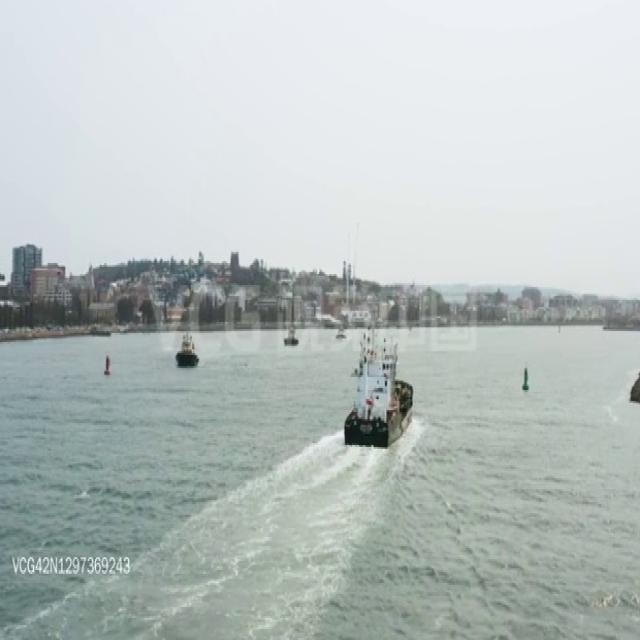houseboat: (339, 329, 417, 449), (176, 332, 200, 368), (283, 322, 299, 347), (335, 322, 344, 340)
